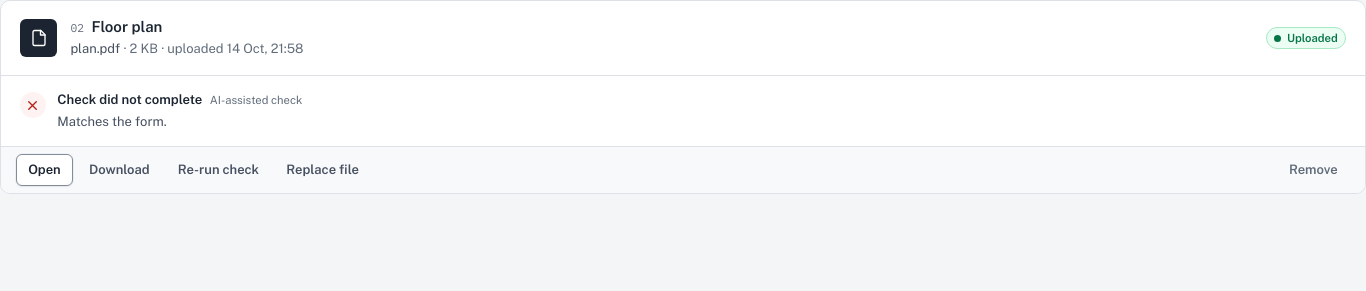
Test case: DocumentSlot › re-runs through the API and hands the fresh view up; a 409 shows in the slot
Click the button "Re-run check" at (218, 170), box top-left (166, 154), bottom-right (271, 186)
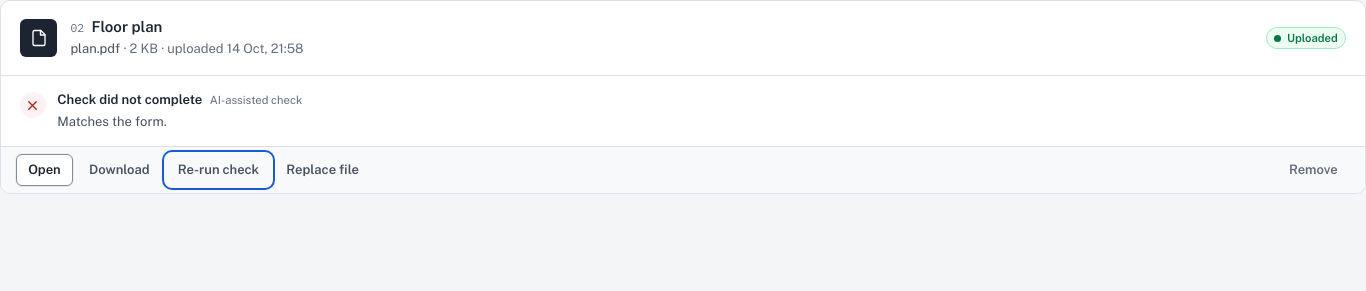
Click the button "Re-run check" at (218, 170), box top-left (166, 154), bottom-right (271, 186)
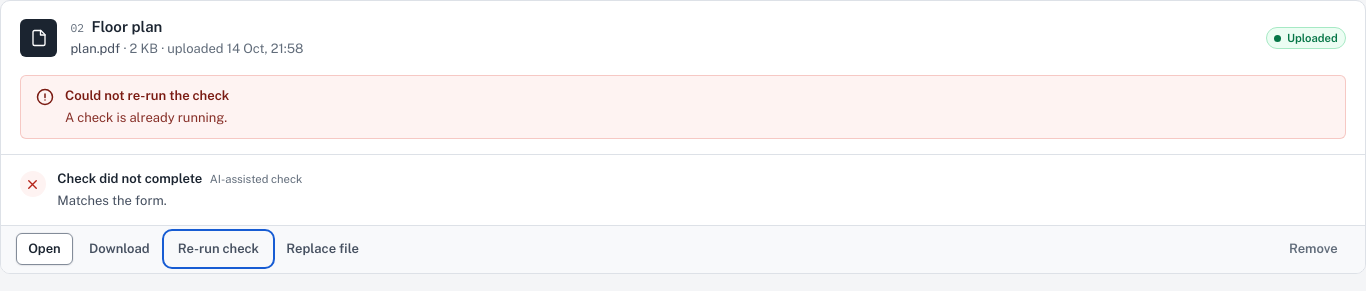
Check: the text "Could not re-run the check" is shown, box top-left (65, 88), bottom-right (229, 103)
Check: the text "A check is already running." is shown, box top-left (65, 110), bottom-right (227, 125)
